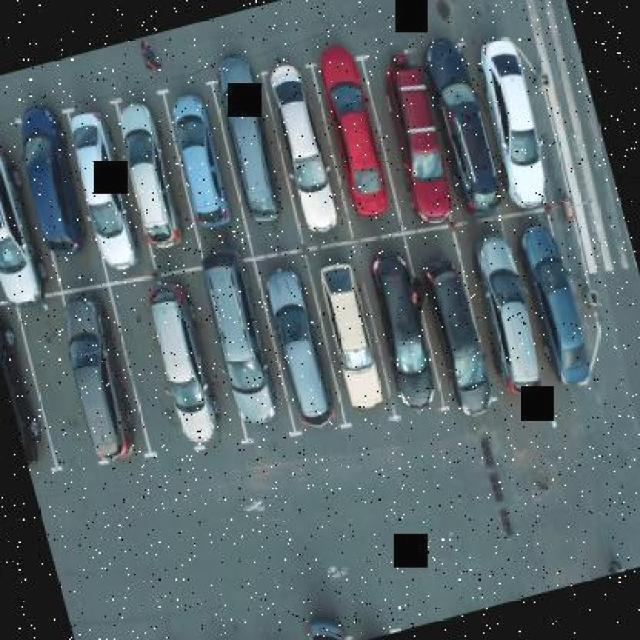space-empty: (19, 305, 104, 476), (112, 295, 188, 463)
space-occupied: (466, 10, 577, 226), (250, 39, 359, 253), (364, 27, 467, 241), (298, 25, 404, 230), (360, 232, 460, 443), (198, 35, 297, 248), (413, 26, 516, 226), (466, 226, 563, 427), (305, 248, 401, 442), (509, 215, 606, 403), (253, 253, 342, 453), (411, 244, 505, 427), (0, 69, 92, 255), (63, 103, 151, 289), (60, 286, 149, 469), (200, 253, 286, 438), (145, 284, 233, 464), (106, 91, 189, 264), (159, 82, 242, 244), (0, 301, 55, 481), (0, 142, 51, 321), (297, 591, 354, 640)
